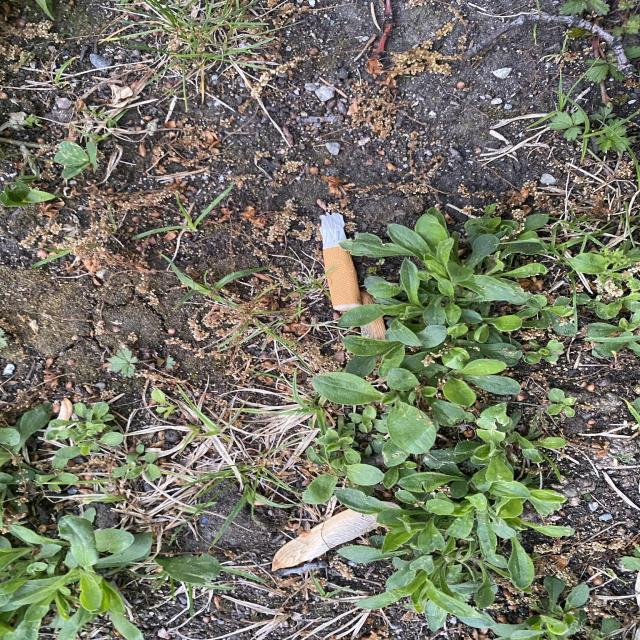other waste: (318, 211, 362, 311)
